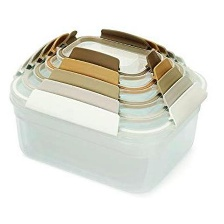plastic_box: (2, 20, 212, 200)
